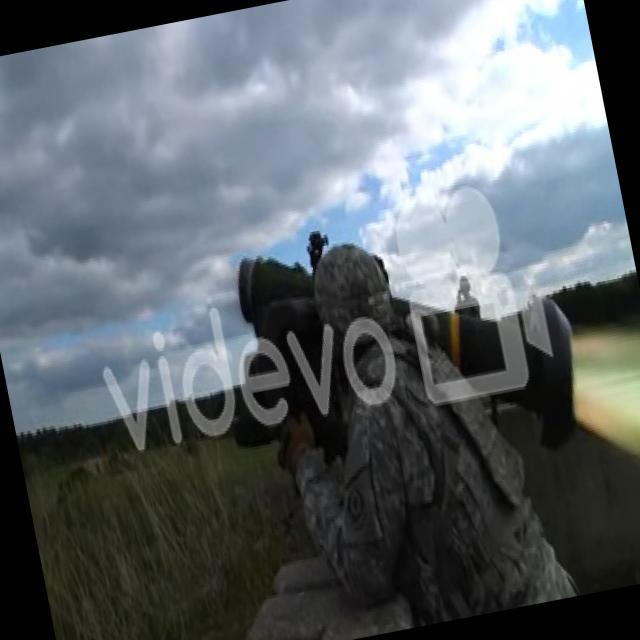rocket: (232, 200, 590, 489)
